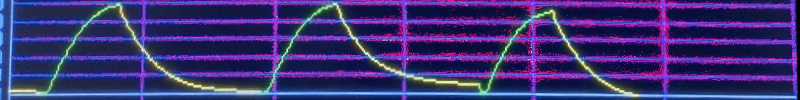normal_volume: (10, 0, 650, 98)
